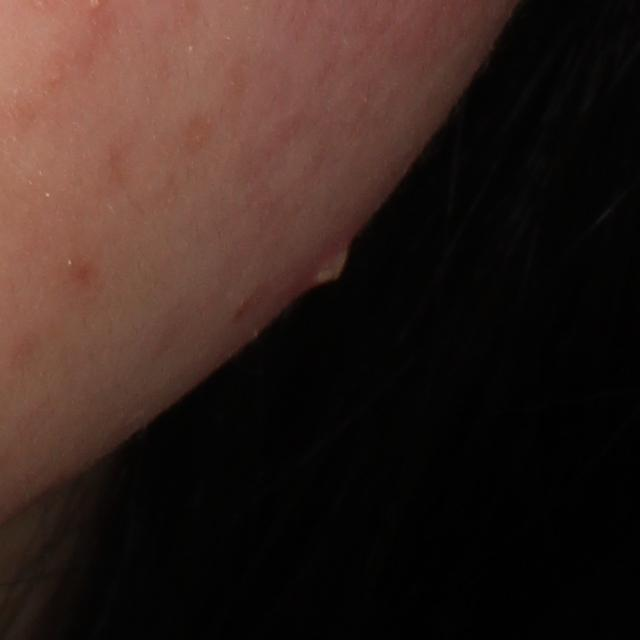pustule: (312, 240, 352, 289)
